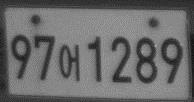1: (86, 34, 103, 84)
2: (109, 35, 133, 83)
7: (32, 34, 57, 82)
8: (134, 35, 158, 83)
9: (159, 36, 183, 84), (10, 34, 32, 81)
어: (59, 42, 82, 84)
